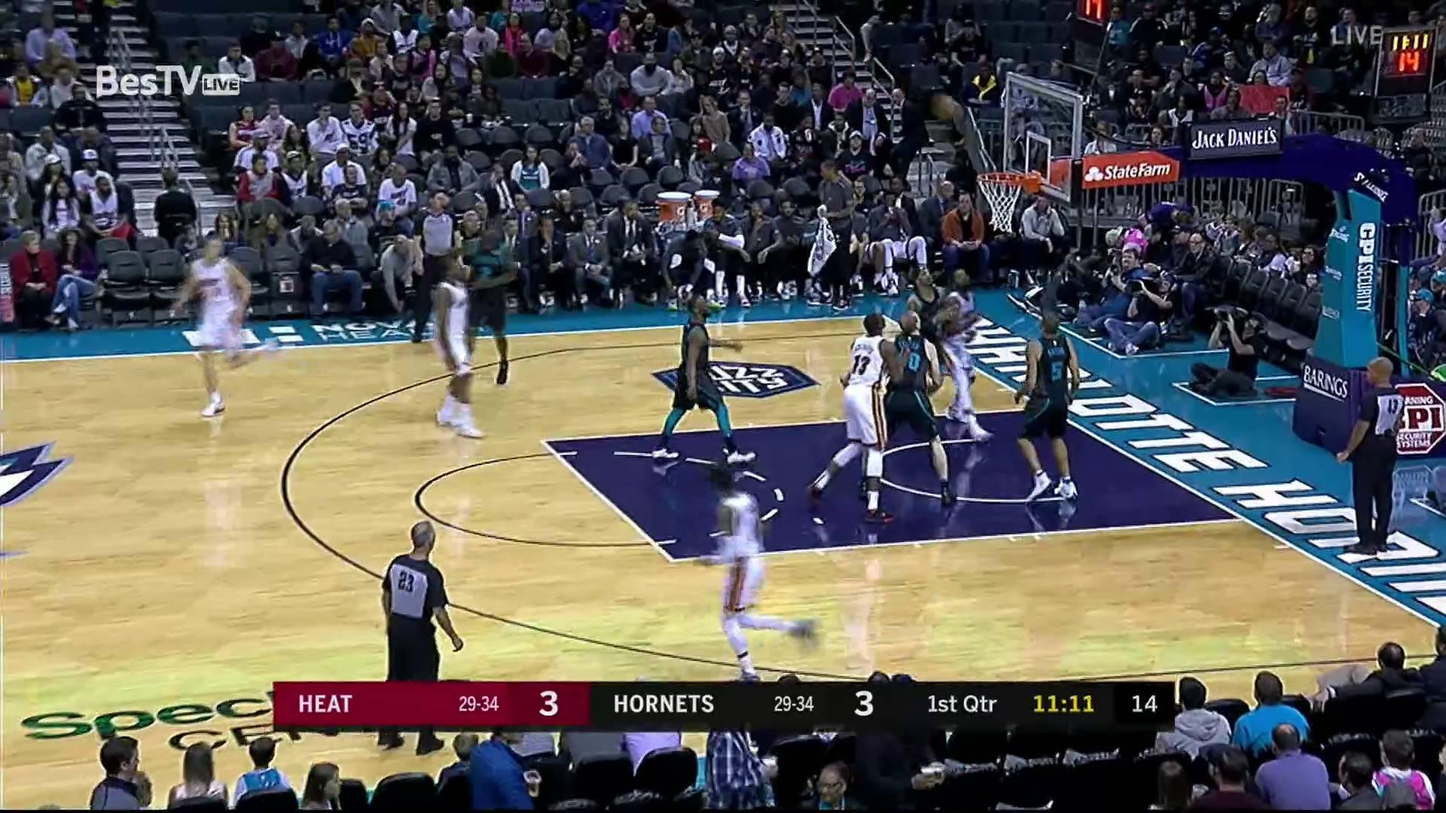basketball: (930, 93, 959, 124)
